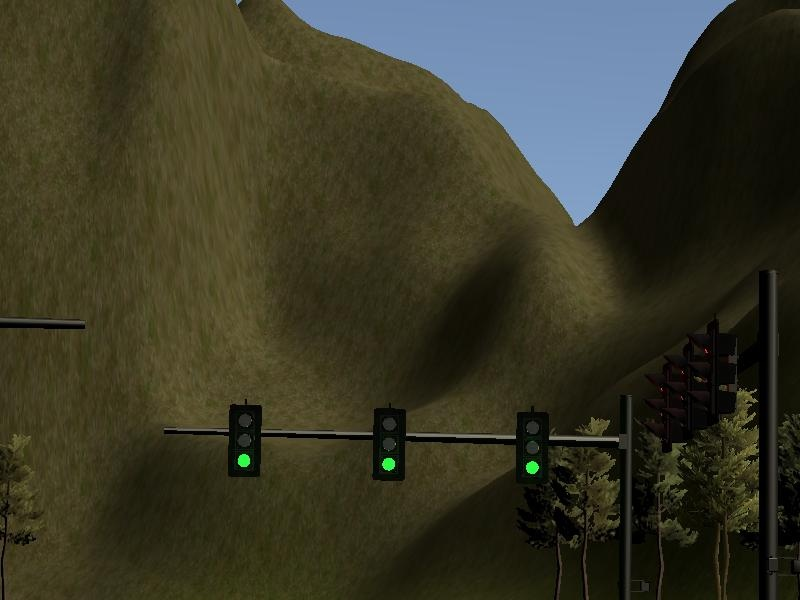green: (371, 410, 407, 487), (229, 404, 265, 477), (515, 413, 551, 486)
